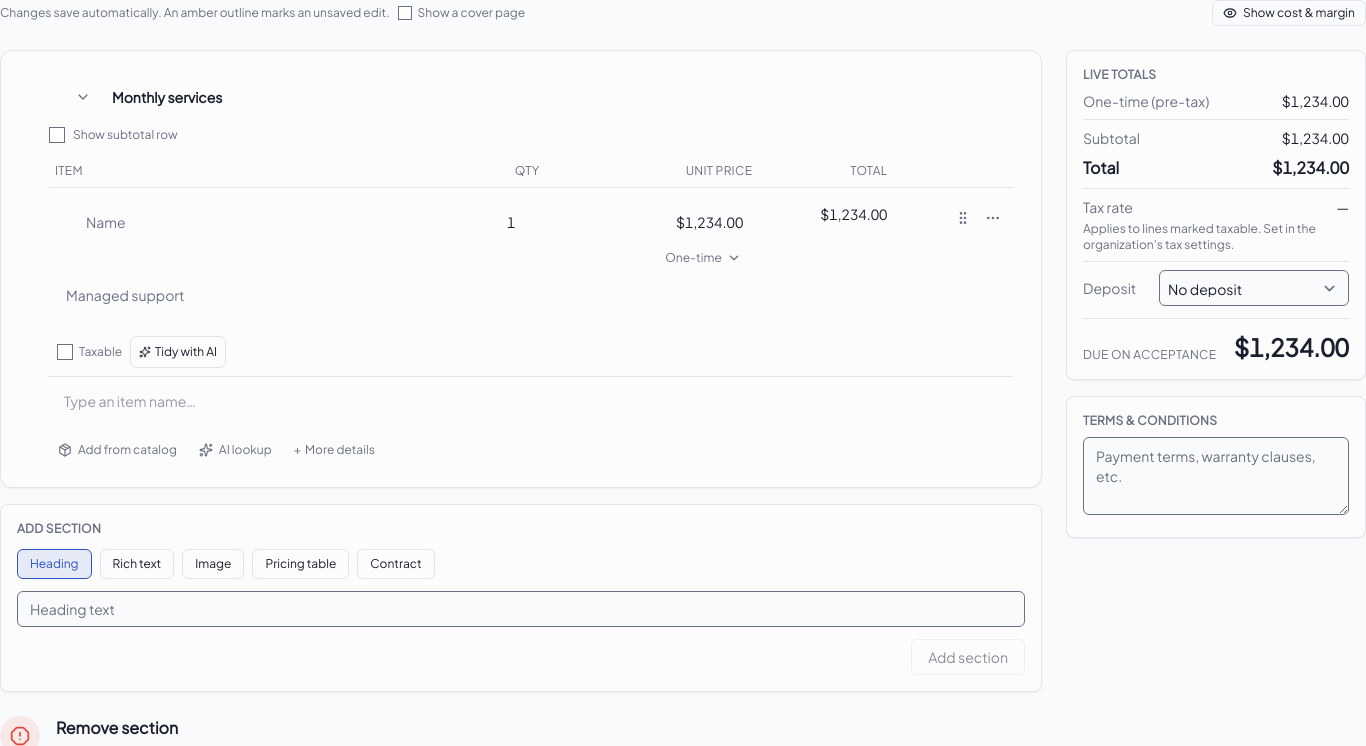
Test: QuoteLineRows — money-formatted price/cost inputs › commits the typed value on blur and reformats back to currency
Click the button with test id "quote-block-add-line-toggle-blk-1" at coordinates (334, 450), box [285,437,384,463]
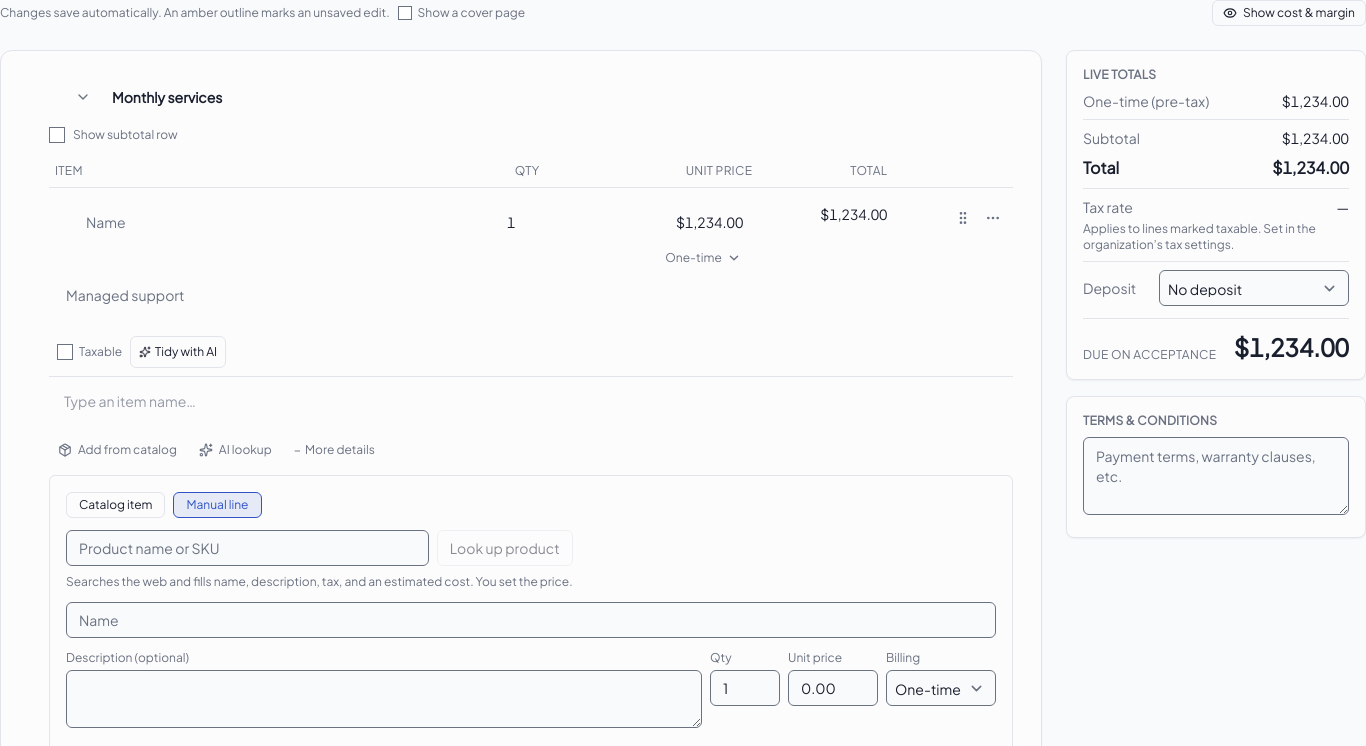
Focus the field with test id "quote-line-price-line-1" at coordinates (696, 222), box [640,204,752,240]
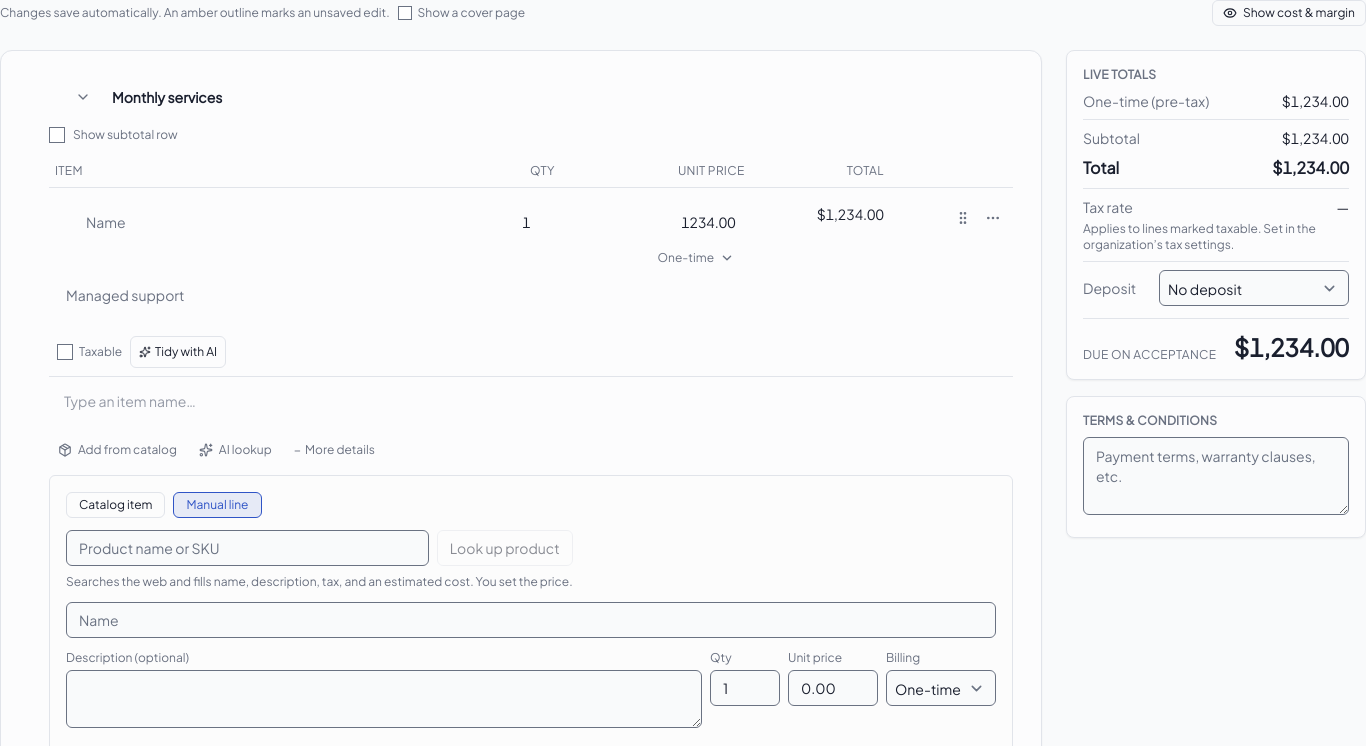
Replace the text in the field with test id "quote-line-price-line-1" with "75" at coordinates (698, 222), box [652,204,744,240]
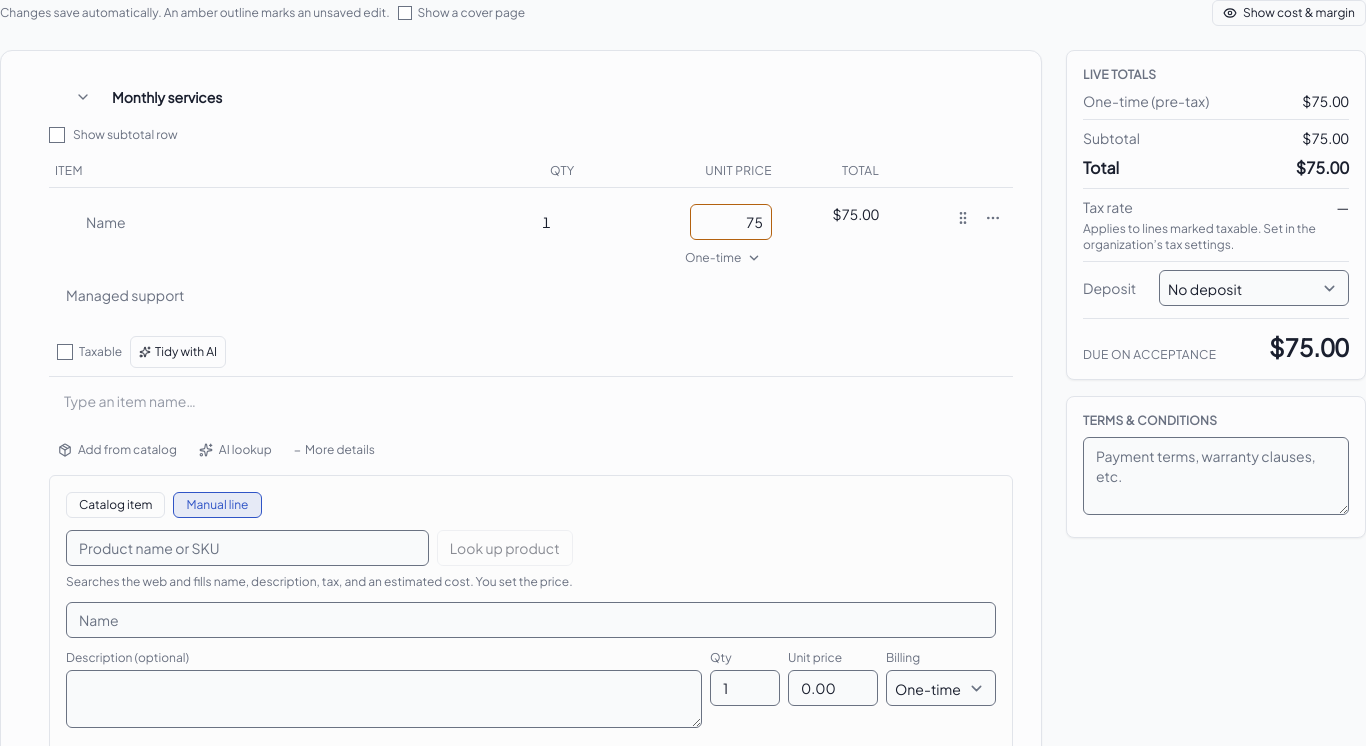
Leave the field with test id "quote-line-price-line-1", box [690,204,772,240]
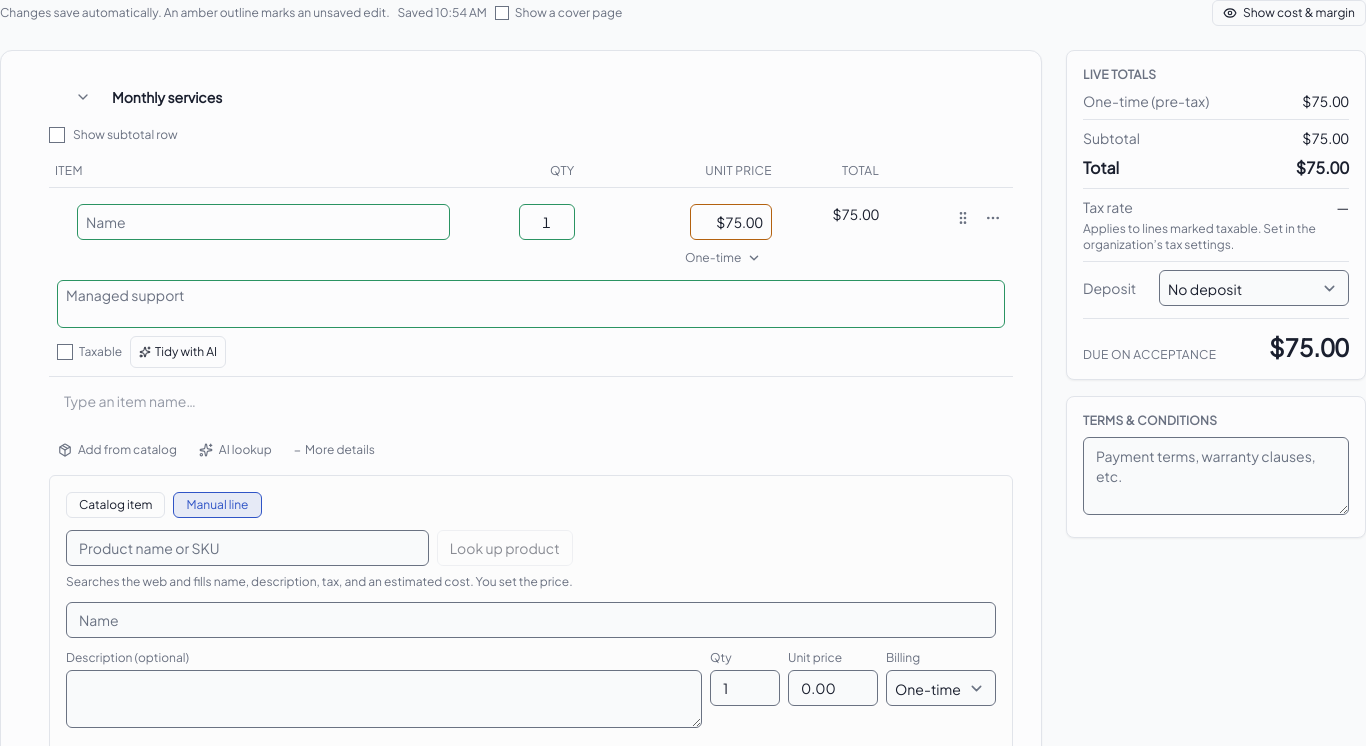
Expected: the field with test id "quote-line-price-line-1" holds "$75.00", [690,204,772,240]
